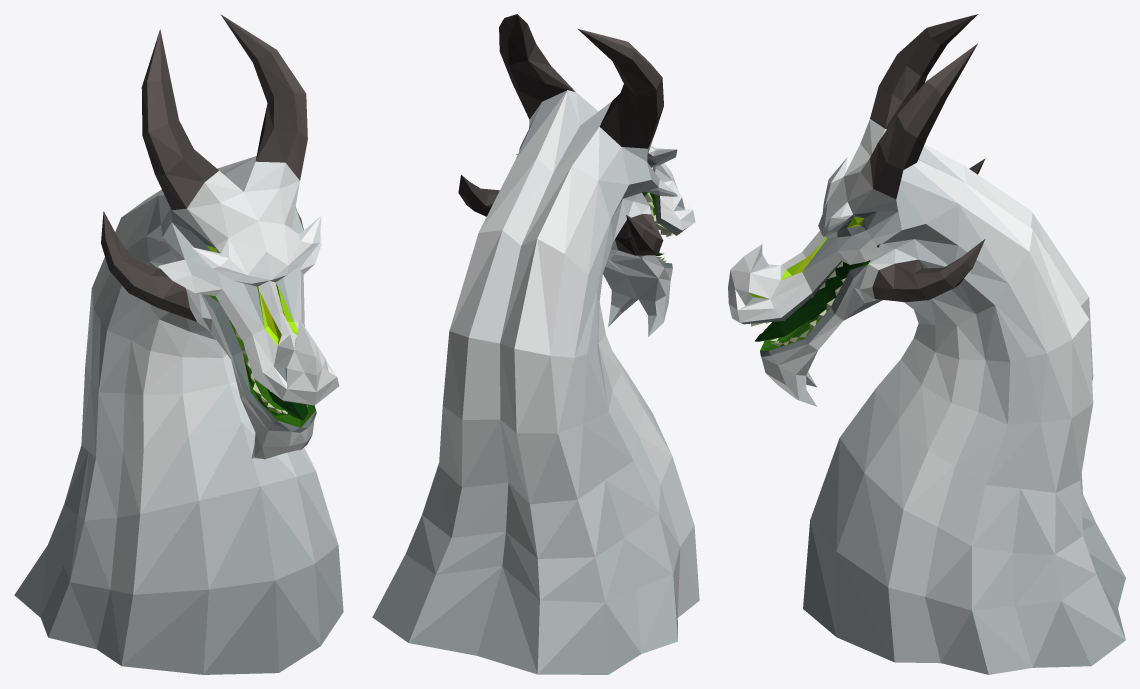
Rendered from chambers-of-xeric.gltf.
3 views of the same model, side by side, from view 1: azimuth 30°, elevation 25°; view 2: azimuth 150°, elevation 25°; view 3: azimuth 270°, elevation 25° (orthographic).
Size of the model in its own units: 392 by 803 by 499.
Materials: 2 (2 with a texture image).
